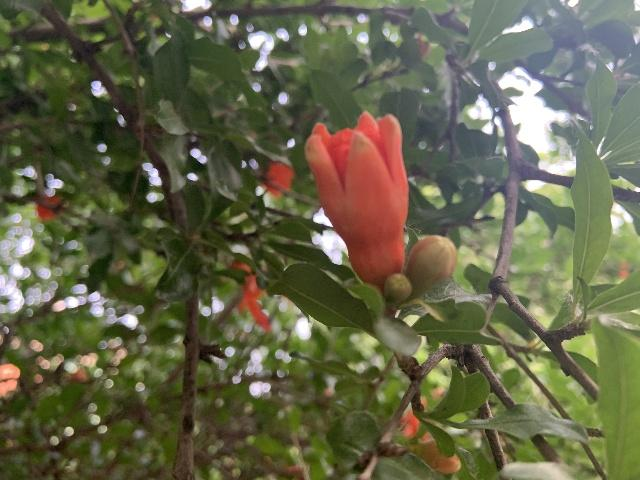bud: (405, 234, 456, 296), (384, 273, 412, 304)
flower: (303, 110, 410, 292), (230, 260, 271, 332), (259, 161, 294, 197), (34, 194, 61, 222)
